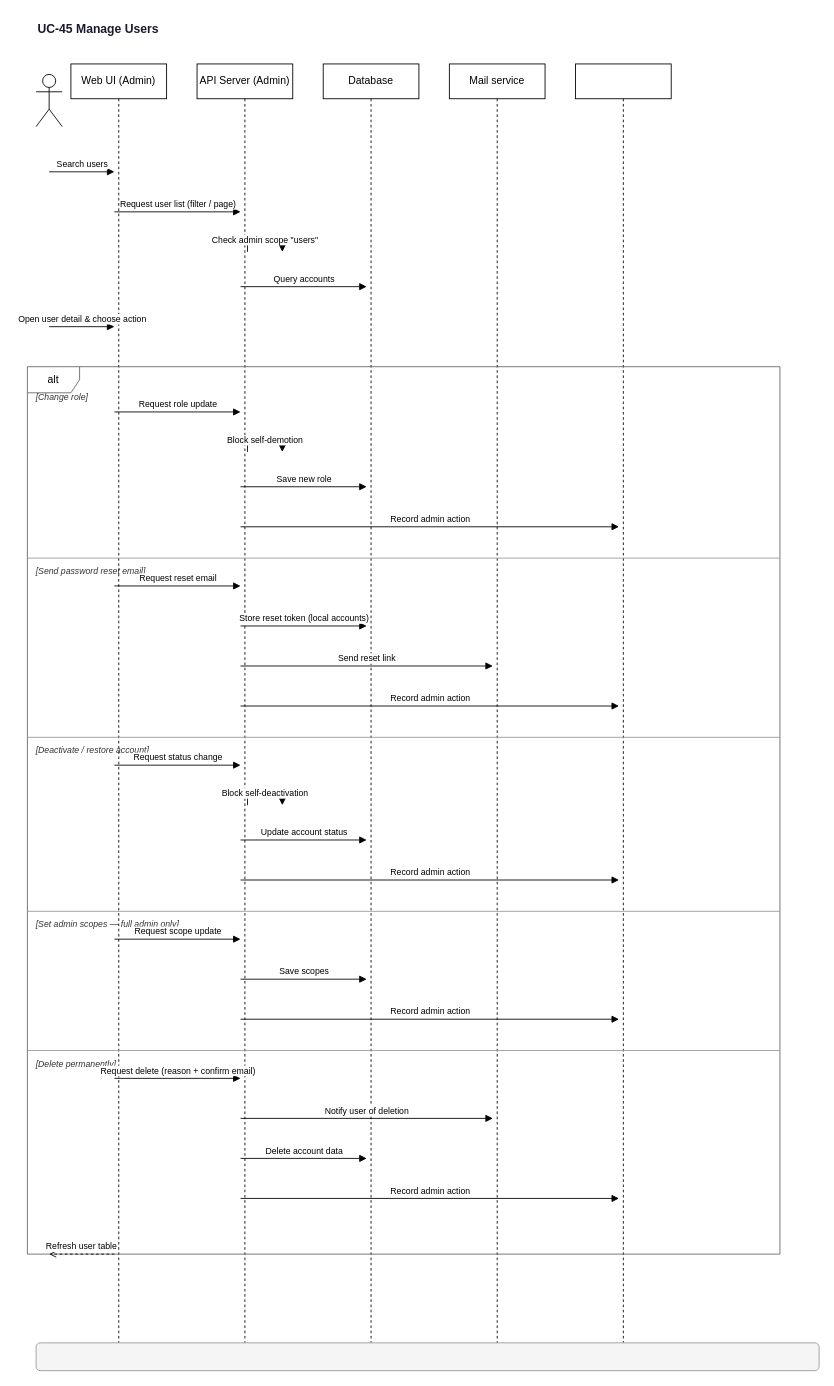
This 834x1386 diagram has some shape labels left out. The box of each missing label's shape, as (x1, y1, x2, y2) in pixels:
Administrator: (35, 74, 62, 127)
Audit log: (575, 63, 671, 1345)
Cosmo Learn — UC-45 Manage Users: (35, 1342, 819, 1371)
